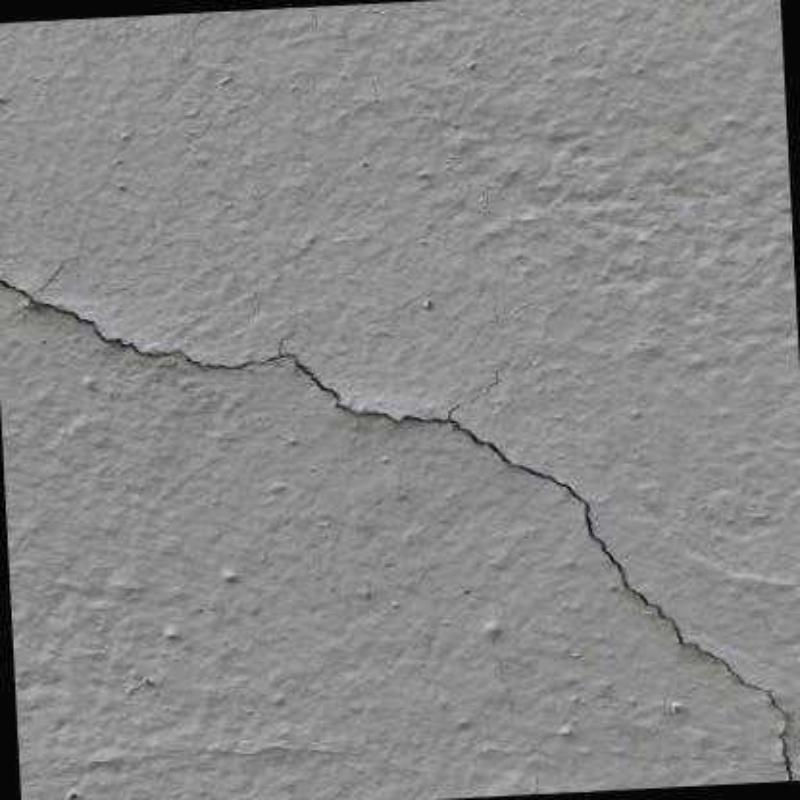crack: (0, 264, 798, 781)
